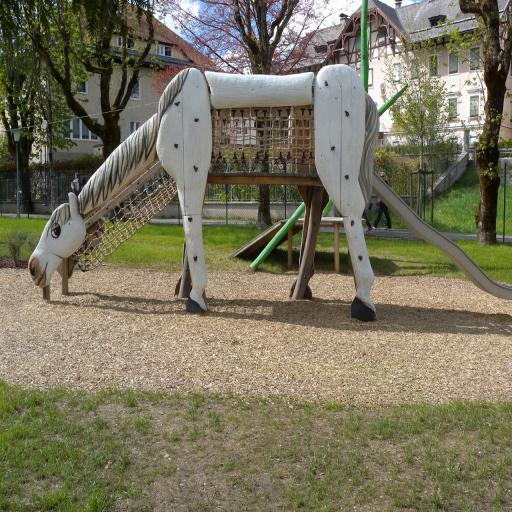horse: (27, 62, 380, 322)
